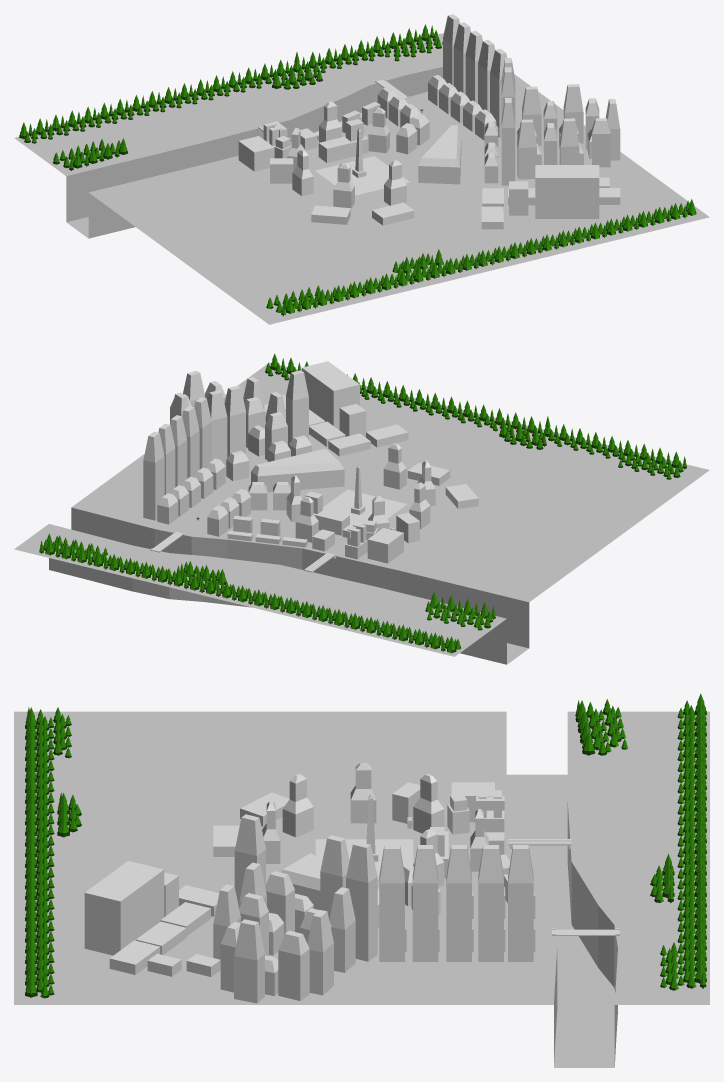
The model's file is Landscape.FBX.
3 renders of one model, top to bottom at view 1: azimuth 30°, elevation 25°; view 2: azimuth 150°, elevation 25°; view 3: azimuth 270°, elevation 25°, orthographic. The views are drawn at different scales.
Visible parts, largest first — view 1: Plane001, Cylinder002, Cylinder003, Box001, Box012, Object038, Box024, Box023, Object020, Object016, Box027, Object012 (+16 smaller); view 2: Plane001, Cylinder002, Cylinder003, Box001, Object038, Box012, Object011, Object020, Object018, Object017, Box024, Box027 (+20 smaller); view 3: Plane001, Cylinder002, Cylinder003, Box001, Box012, Object013, Object017, Object015, Object011, Object012, Object014, Object036 (+24 smaller).
Part boxes in pixels (x1,y1,x2,y2): Plane001: (14, 33, 709, 324); Cylinder002: (19, 24, 442, 170); Cylinder003: (266, 199, 696, 315); Box001: (287, 101, 406, 208); Box012: (535, 165, 599, 218); Object038: (418, 125, 461, 184); Box024: (315, 156, 409, 195); Box023: (318, 119, 368, 162); Object020: (501, 98, 515, 185); Object016: (517, 119, 536, 179); Box027: (238, 136, 274, 171); Object012: (490, 48, 507, 137); Plane001: (14, 362, 709, 664); Cylinder002: (39, 533, 495, 653); Cylinder003: (265, 353, 686, 479); Box001: (286, 443, 435, 542); Object038: (251, 448, 344, 492); Box012: (301, 361, 359, 429); Object011: (143, 431, 164, 520); Object020: (286, 370, 308, 446); Object018: (224, 385, 245, 457); Object017: (207, 390, 227, 474); Box024: (323, 489, 407, 524); Box027: (367, 528, 403, 563); Plane001: (14, 711, 709, 1067); Cylinder002: (575, 693, 706, 990); Cylinder003: (25, 707, 81, 998); Box001: (262, 763, 488, 887); Box012: (84, 861, 164, 955); Object013: (412, 845, 438, 961); Object017: (346, 841, 377, 961); Object015: (478, 845, 503, 961); Object011: (508, 845, 533, 961); Object012: (379, 845, 404, 961); Object014: (446, 845, 471, 961); Object036: (234, 919, 264, 1003).
Bounding box in the file's own units: 78792 × 21789 × 79035.
